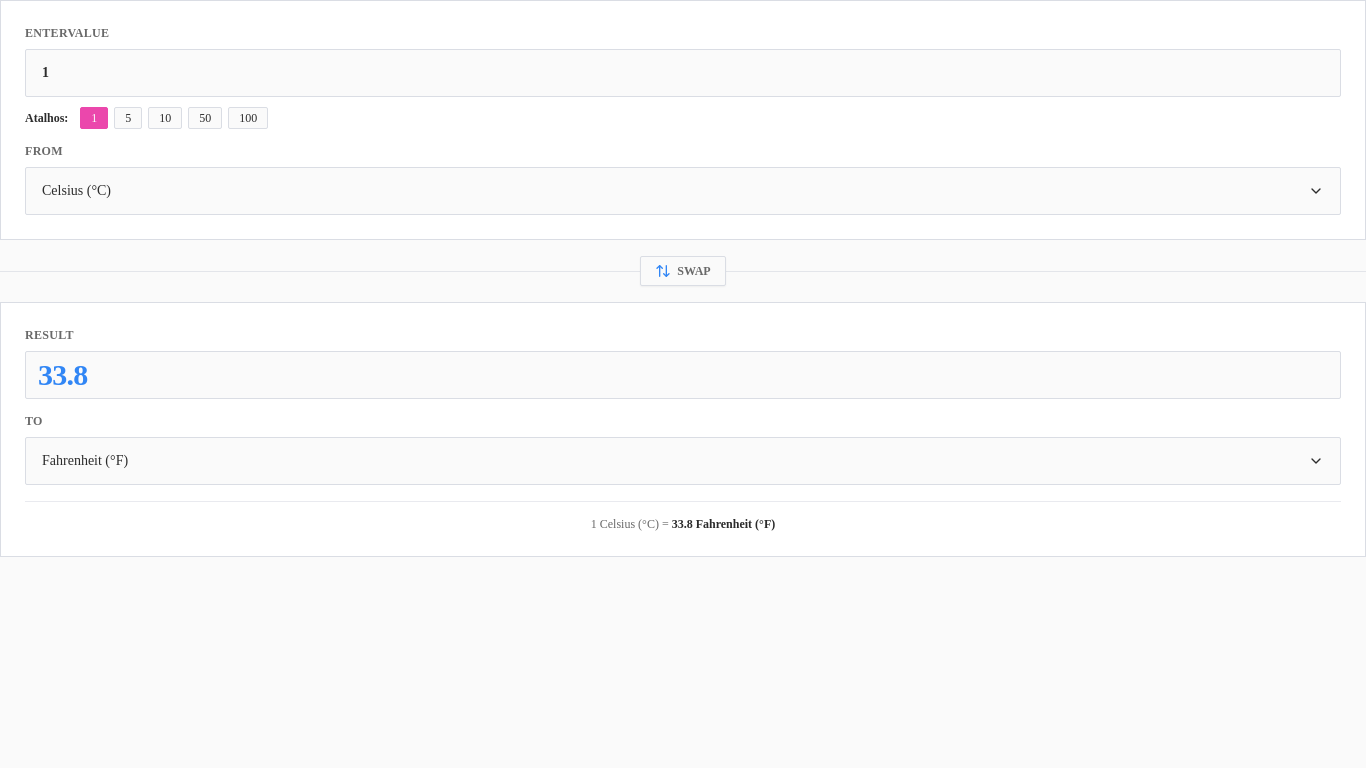
Test: ConversionWidget › temperature category › renders temperature unit options
Click the dropdown labelled "Celsius (°C)".
click(76, 190)  # box [25,167,1341,215]
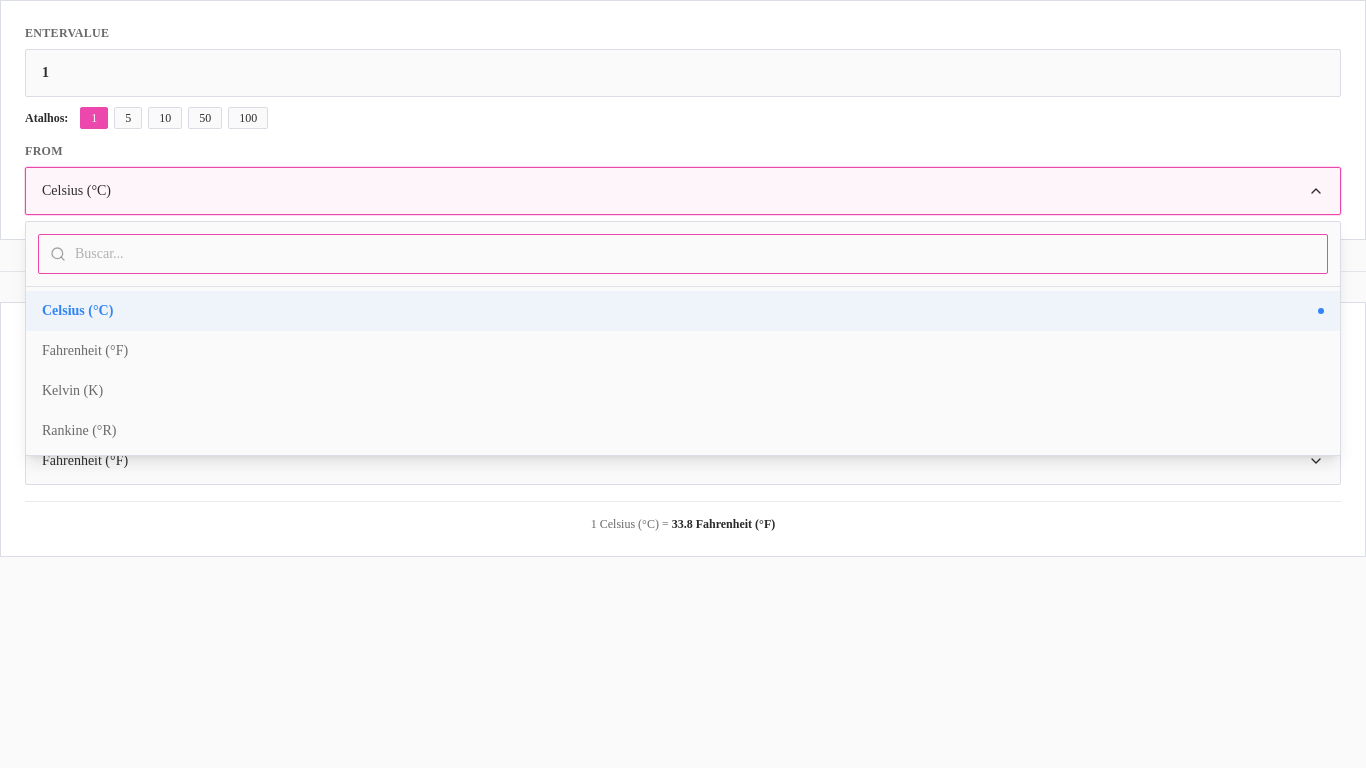
Now the option "Celsius (°C)" is shown, box [26,291,1340,331]
Now the option "Fahrenheit (°F)" is shown, box [26,331,1340,371]
Now the option "Kelvin (K)" is shown, box [26,371,1340,411]
